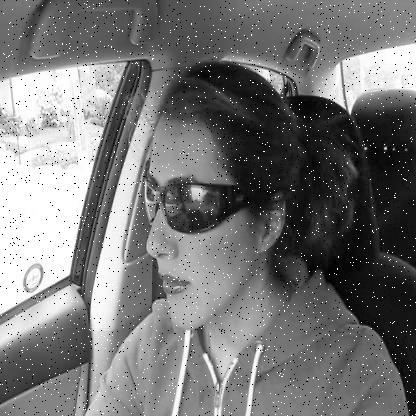no_seatbelt: (132, 50, 314, 416)
